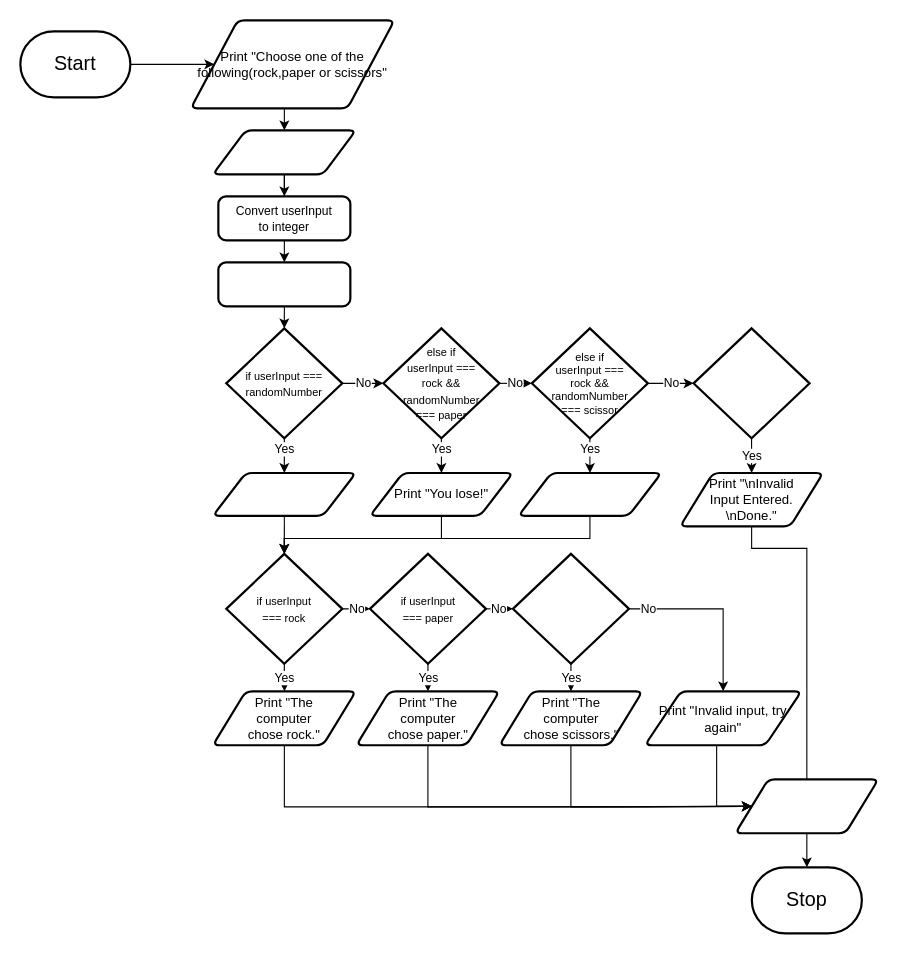
This 898x953 diagram has some shape labels left out. The shapes that lost their labels are listed below. From the top down, each one's box as (x1, y1, x2, y2) in pixels, then its label:
(211, 129, 356, 175): Get userInput
(217, 261, 351, 307): Get randomNumber
(692, 327, 810, 439): else if... else if... else if... else
(211, 471, 356, 516): Print "You tied"
(517, 471, 662, 516): Print "You win!"
(511, 552, 630, 664): if userInput === scissor
(734, 778, 879, 834): Print "\nDone."
